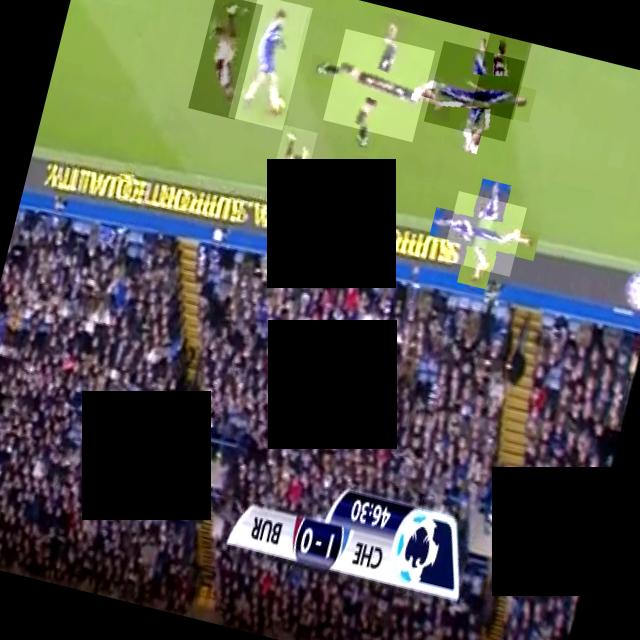soccer-player: (322, 28, 434, 142), (227, 0, 312, 130), (423, 40, 525, 142), (187, 0, 262, 119), (442, 190, 526, 276), (260, 124, 317, 230), (471, 32, 532, 120)
